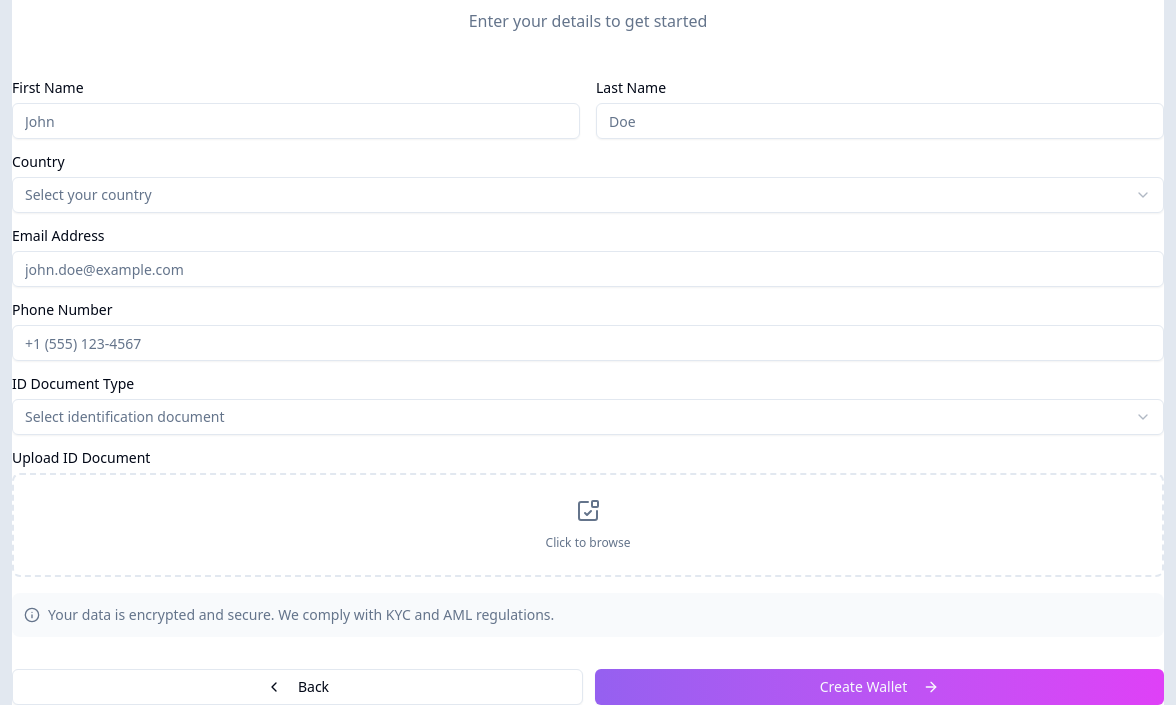
PersonalInfoForm › shows error if required fields are empty
(page scrolled)
Click the button "Create Wallet" at (880, 687), box [595,669,1164,704]
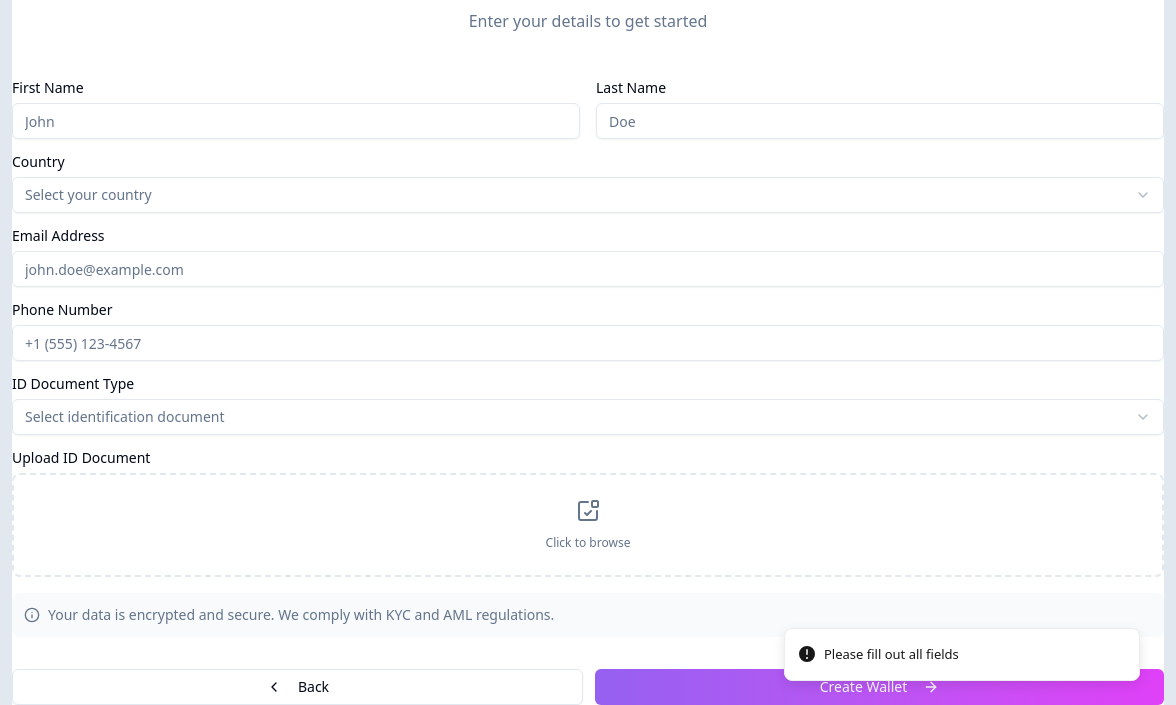
Result: the text "Please fill out all fields" is shown at [824,644,959,664]
